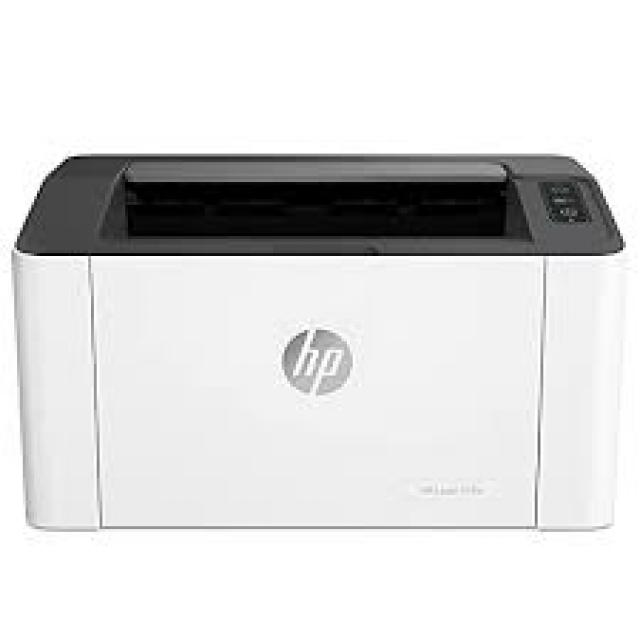printer: (6, 148, 630, 546)
